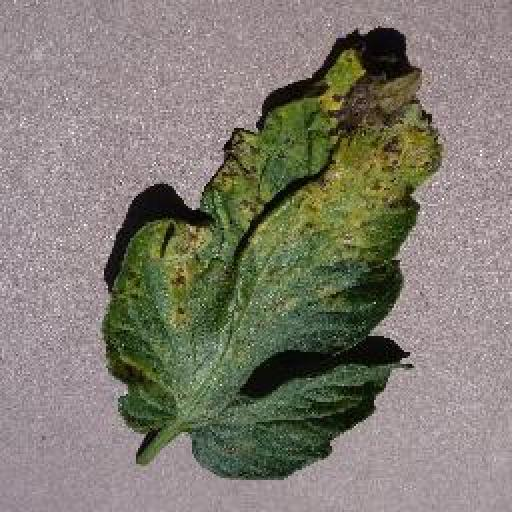Septoria: (103, 45, 442, 483)
